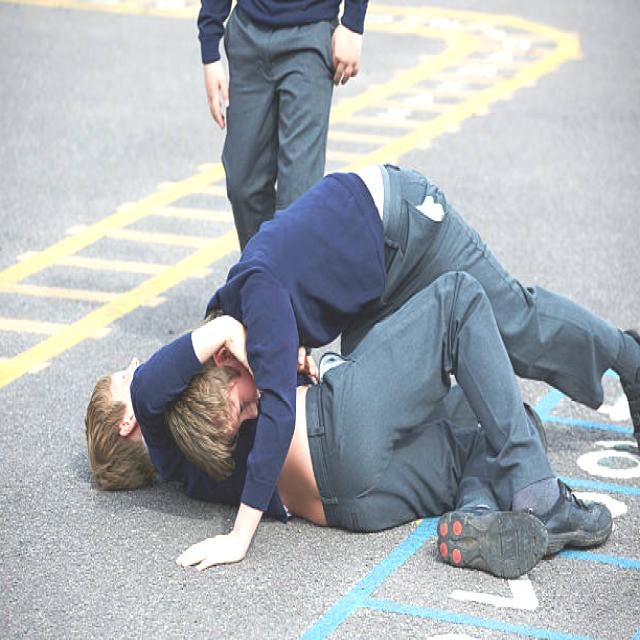fight: (80, 157, 610, 589)
